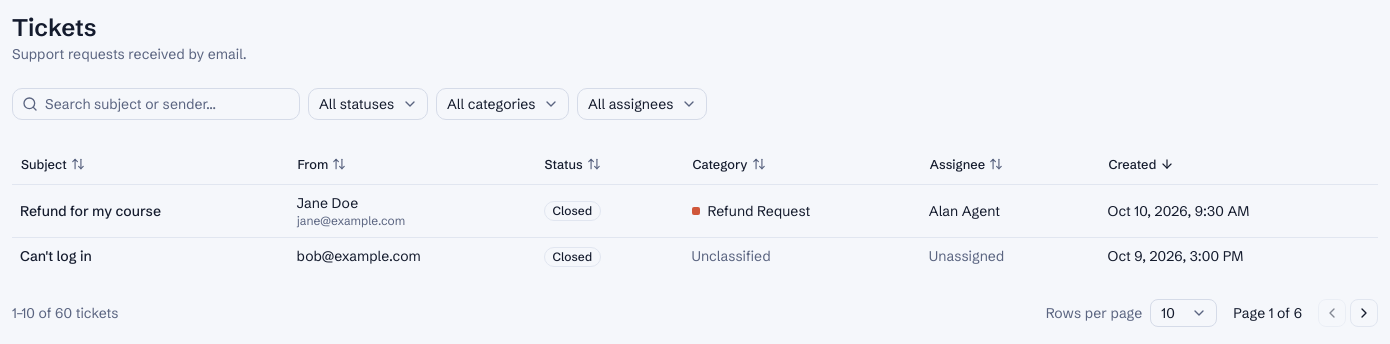
TicketsPage pagination › changes the page size
Expected: the table is shown, [12,144,1378,274]
Select "50" in the dropdown labelled "Rows per page": x=1184, y=312 [1150,298,1217,326]
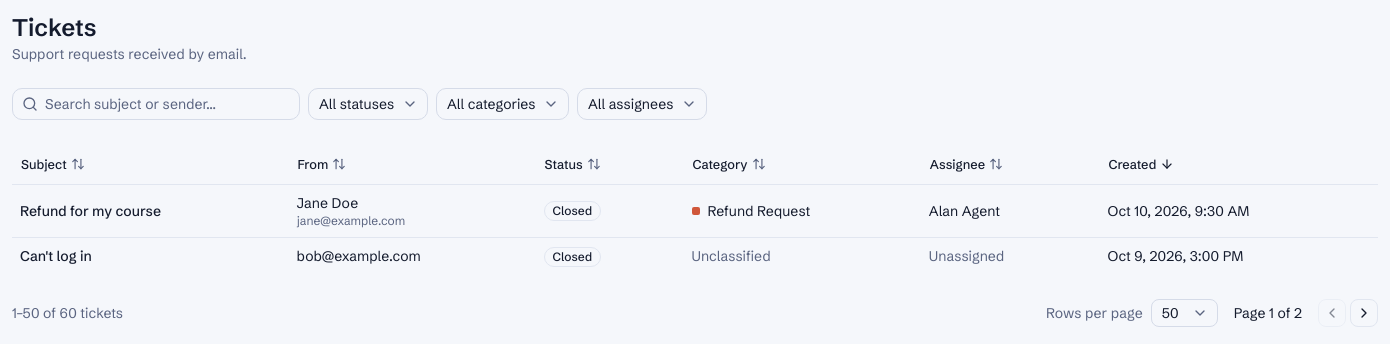
Expected: the text "Page 1 of 2" is shown, [1234,302,1302,322]
